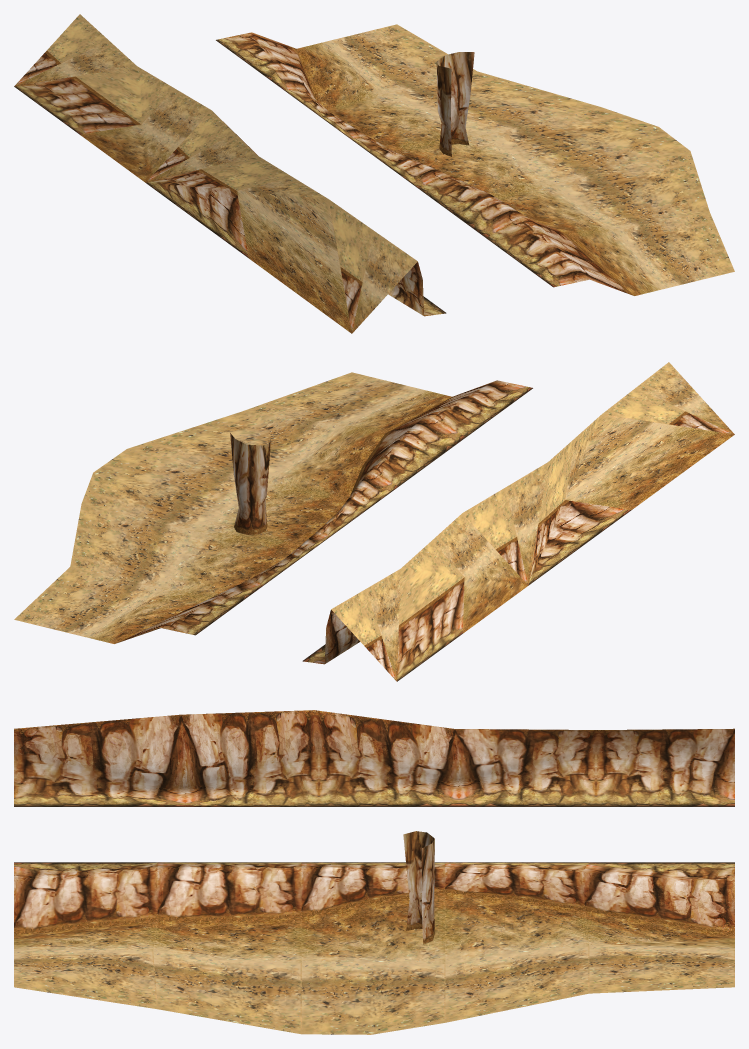
Rendered from us_cany_mid_02.fbx.
3 views of the same model, one above another, from view 1: azimuth 30°, elevation 25°; view 2: azimuth 150°, elevation 25°; view 3: azimuth 270°, elevation 25° (orthographic). The views are drawn at different scales.
Parts seen in each view (by area): view 1: us_cany_mid_02; view 2: us_cany_mid_02; view 3: us_cany_mid_02.
Boxes of the visible parts, x1,y1,x2,y2 form: us_cany_mid_02: [14, 14, 734, 333]; us_cany_mid_02: [14, 362, 734, 681]; us_cany_mid_02: [14, 710, 734, 1034].
Bounding box in the file's own units: 8102 × 1576 × 10000.
